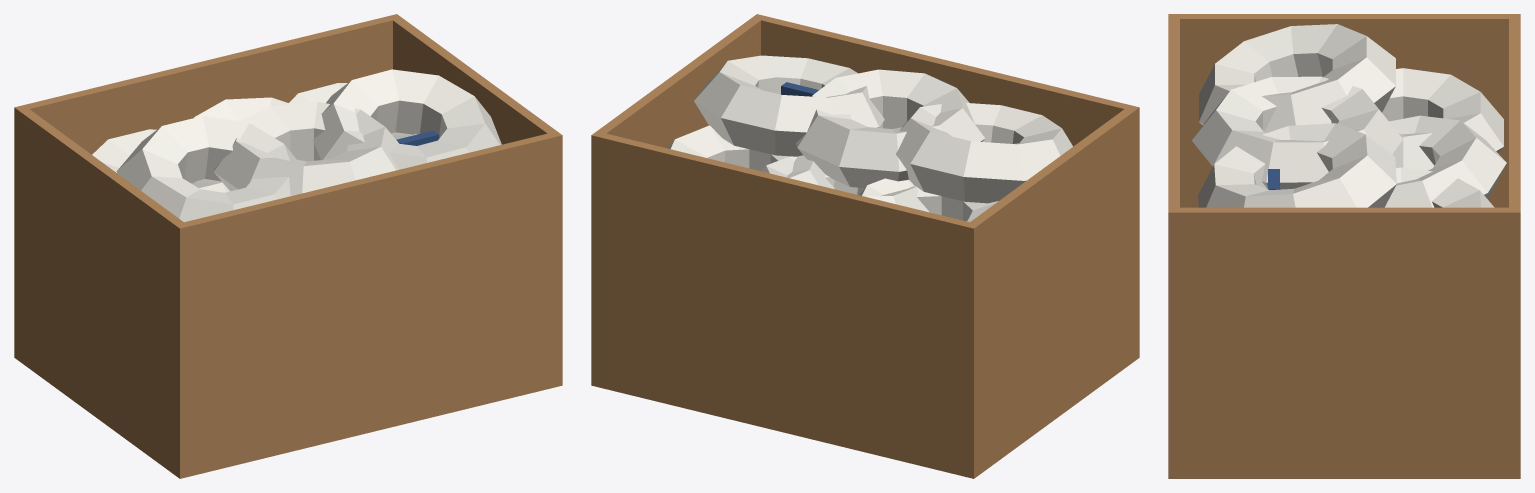
The model's file is neck_braces.glb.
3 renders of one model, left to right at view 1: azimuth 30°, elevation 25°; view 2: azimuth 150°, elevation 25°; view 3: azimuth 270°, elevation 25°, orthographic. The views are drawn at different scales.
Parts seen in each view (by area): view 1: sides_box_card, collars_collar_white (×6), bottom_box_card; view 2: sides_box_card, collars_collar_white (×6), bottom_box_card; view 3: sides_box_card, collars_collar_white (×6), bottom_box_card.
Boxes of the visible parts, bbox=[...] form: sides_box_card: bbox=[14, 14, 562, 478]; collars_collar_white (×6): bbox=[92, 69, 501, 222]; bottom_box_card: bbox=[14, 348, 562, 478]; sides_box_card: bbox=[591, 14, 1139, 478]; collars_collar_white (×6): bbox=[667, 55, 1072, 222]; bottom_box_card: bbox=[591, 350, 1139, 478]; sides_box_card: bbox=[1168, 14, 1520, 478]; collars_collar_white (×6): bbox=[1192, 24, 1506, 207]; bottom_box_card: bbox=[1168, 468, 1520, 478].
Bounding box in the file's own units: 0.4 × 0.2662 × 0.3.
